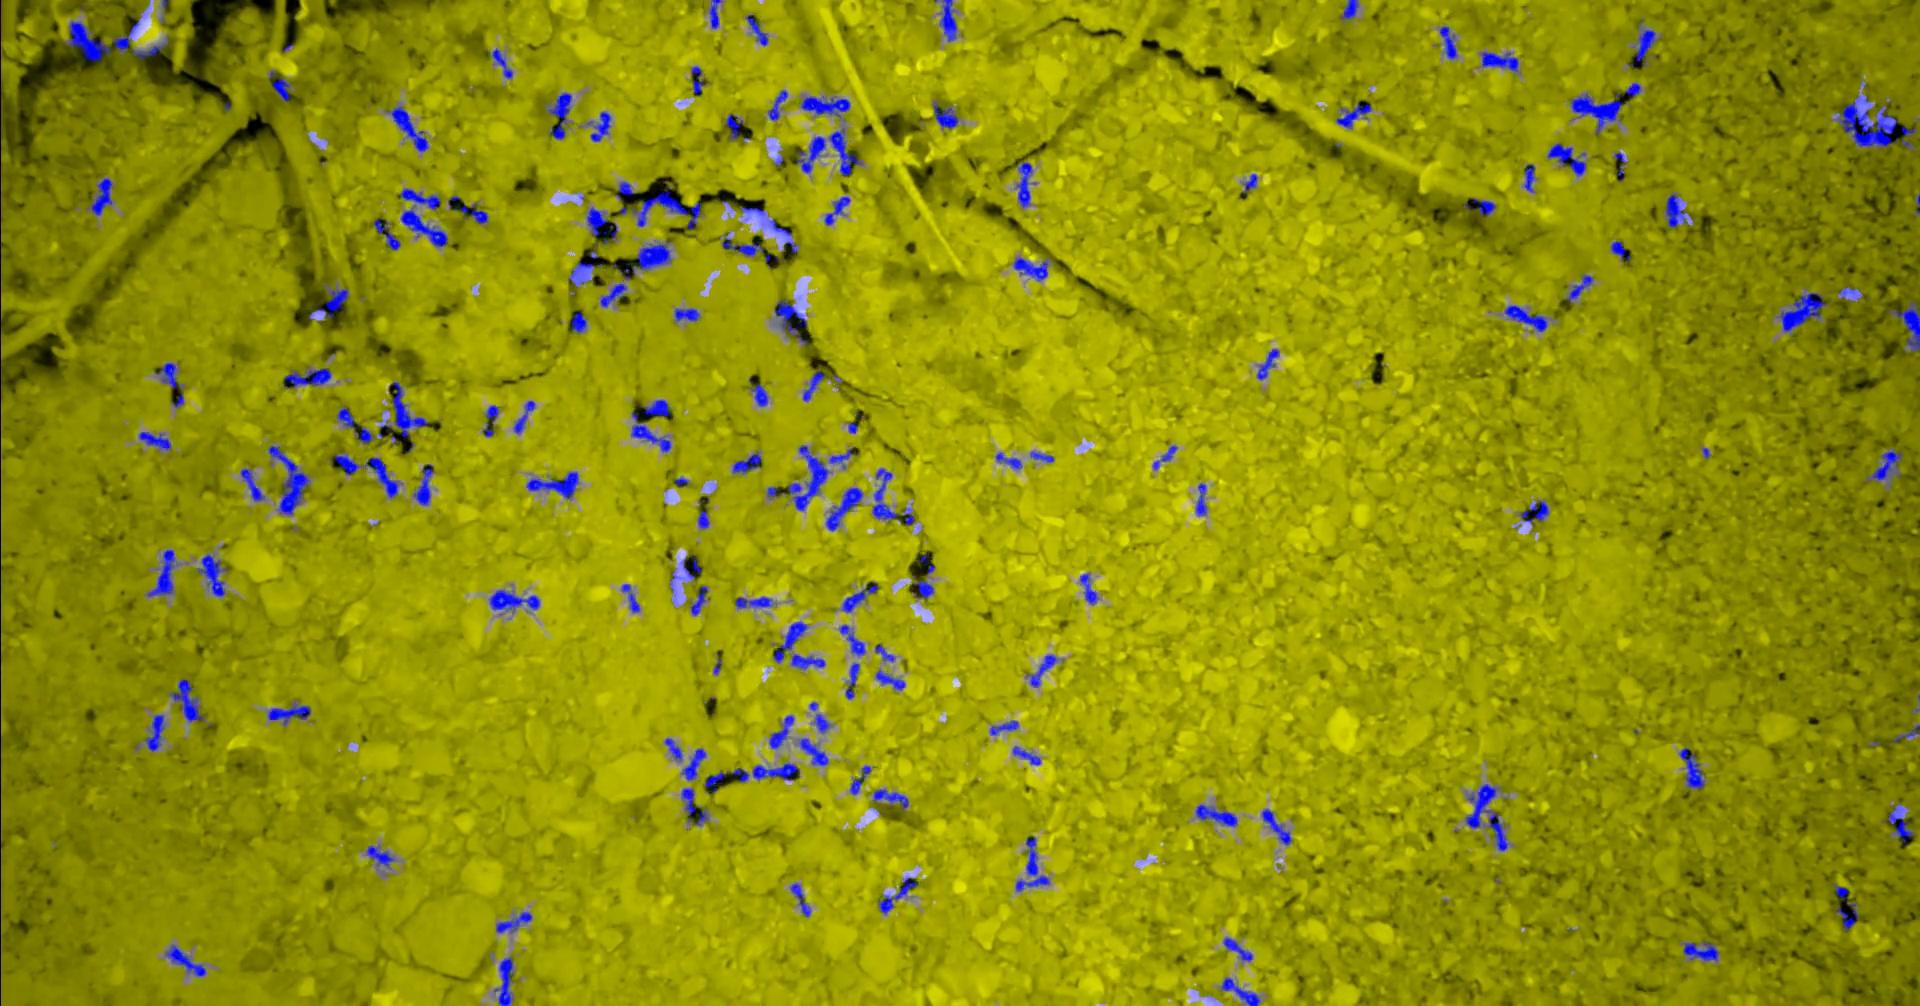ant: (618, 180, 700, 229), (795, 127, 862, 175), (703, 762, 799, 793), (268, 445, 309, 514), (1465, 782, 1507, 850), (787, 445, 828, 511), (872, 467, 914, 525), (389, 381, 429, 437), (1570, 91, 1622, 133), (618, 240, 670, 279), (1778, 292, 1827, 332), (386, 105, 428, 151), (1015, 835, 1049, 890), (63, 20, 110, 61), (400, 207, 447, 246), (630, 412, 670, 452), (825, 486, 862, 530), (1887, 301, 1919, 351), (775, 298, 808, 344), (877, 876, 917, 915), (524, 471, 578, 499), (169, 678, 203, 721), (773, 621, 808, 662), (337, 406, 373, 443), (364, 456, 397, 497), (146, 549, 174, 596), (165, 944, 206, 976), (197, 554, 227, 596), (1547, 144, 1585, 177), (155, 362, 183, 406), (1832, 883, 1858, 931), (585, 207, 617, 244), (447, 196, 488, 224), (547, 91, 571, 138), (800, 95, 850, 118), (841, 582, 877, 612), (1261, 808, 1291, 845), (1503, 305, 1545, 332), (1677, 747, 1704, 789), (312, 287, 348, 318), (1887, 805, 1914, 846), (1220, 977, 1258, 1005), (681, 788, 707, 826), (489, 589, 538, 610), (493, 956, 513, 1005), (283, 367, 330, 387), (1336, 102, 1371, 128), (267, 704, 310, 725), (1870, 450, 1902, 479), (1029, 654, 1057, 687), (399, 188, 439, 210), (723, 234, 763, 255), (1195, 804, 1236, 826), (89, 177, 112, 215), (1663, 193, 1689, 227), (413, 464, 433, 506), (112, 20, 138, 52), (1632, 29, 1655, 66), (568, 260, 602, 285), (373, 218, 400, 249), (839, 624, 865, 655), (240, 467, 264, 500), (768, 715, 792, 748), (1013, 257, 1048, 279), (799, 738, 828, 765), (495, 911, 531, 932), (681, 748, 705, 780), (1481, 51, 1517, 71), (143, 714, 164, 751), (1566, 274, 1592, 302), (824, 196, 850, 225), (585, 111, 610, 141), (1016, 163, 1032, 207), (938, 0, 956, 41), (1683, 940, 1718, 960), (513, 400, 535, 433), (790, 882, 810, 916), (872, 789, 908, 808), (1519, 500, 1548, 523), (1223, 937, 1252, 960), (745, 14, 767, 44), (268, 71, 290, 102), (1256, 348, 1277, 379), (803, 370, 824, 400), (932, 103, 957, 128), (599, 283, 626, 307), (731, 451, 761, 473), (1152, 445, 1177, 469), (138, 431, 170, 450), (1079, 573, 1098, 605), (366, 845, 394, 866), (491, 48, 512, 77), (767, 90, 787, 119), (875, 669, 904, 690), (850, 765, 870, 794), (1439, 25, 1457, 58), (131, 42, 166, 58), (690, 586, 709, 615), (621, 583, 639, 612), (334, 453, 359, 474), (844, 662, 858, 699), (643, 399, 670, 417), (1012, 746, 1040, 763), (829, 448, 855, 467), (734, 596, 772, 608), (483, 405, 498, 436), (791, 654, 824, 668), (725, 113, 743, 138), (1892, 724, 1919, 741), (683, 555, 701, 579), (990, 720, 1018, 735), (1610, 240, 1630, 260), (691, 66, 705, 95), (1472, 197, 1495, 215), (910, 580, 933, 598), (996, 452, 1021, 467), (750, 384, 767, 406), (664, 738, 681, 761), (1195, 483, 1206, 514), (770, 218, 791, 235), (709, 0, 721, 28), (1340, 0, 1357, 19), (615, 180, 632, 199), (918, 553, 935, 573), (874, 644, 894, 661), (570, 311, 585, 333), (1614, 152, 1625, 180), (1523, 163, 1534, 191), (814, 713, 830, 732), (674, 307, 698, 320), (1242, 174, 1257, 193), (1837, 286, 1859, 298), (1030, 451, 1053, 462), (739, 205, 764, 215), (1625, 83, 1641, 97), (697, 511, 709, 528)
